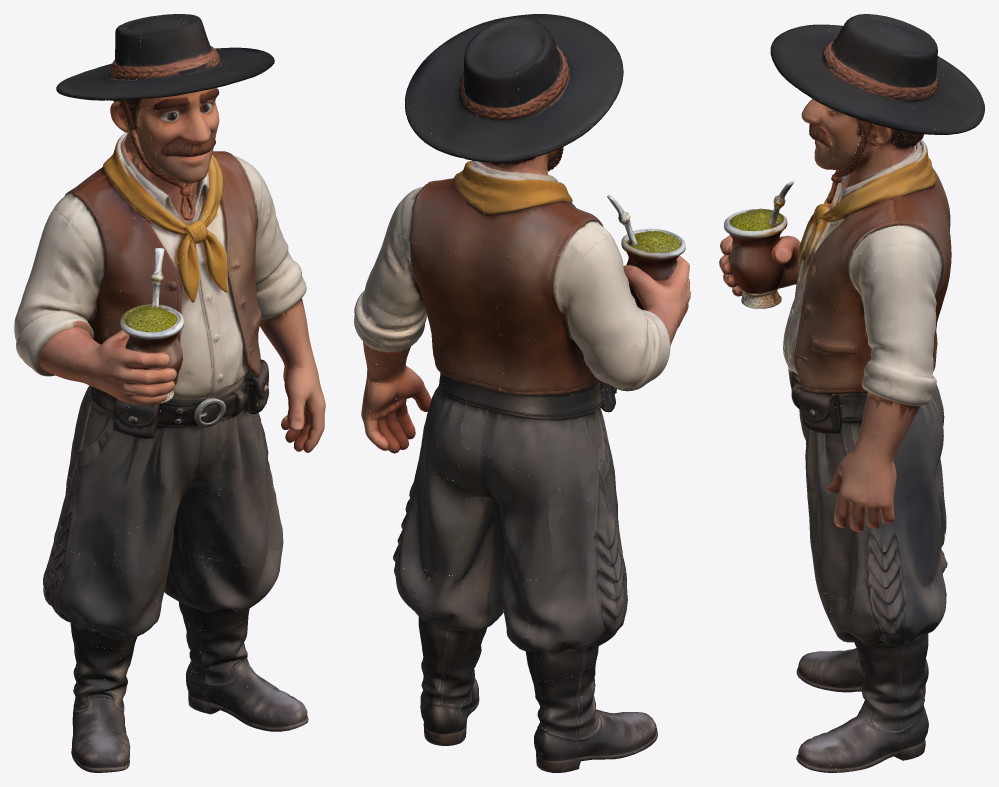
Rendered from lauro_tripo.glb.
The picture shows the model from 3 angles, left to right: view 1: azimuth 30°, elevation 25°; view 2: azimuth 150°, elevation 25°; view 3: azimuth 270°, elevation 25°; orthographic projection.
Parts seen in each view (by area): view 1: tripo_node_b4c0c671-b181-4979-8d30-ff1476095b20; view 2: tripo_node_b4c0c671-b181-4979-8d30-ff1476095b20; view 3: tripo_node_b4c0c671-b181-4979-8d30-ff1476095b20.
Part boxes in pixels (<box>): tripo_node_b4c0c671-b181-4979-8d30-ff1476095b20: <box>14,14,325,772</box>; tripo_node_b4c0c671-b181-4979-8d30-ff1476095b20: <box>354,14,690,772</box>; tripo_node_b4c0c671-b181-4979-8d30-ff1476095b20: <box>719,14,984,772</box>.
Bounding box in the file's own units: 0.4347 × 1 × 0.3433.
1 material, 1 textured.
